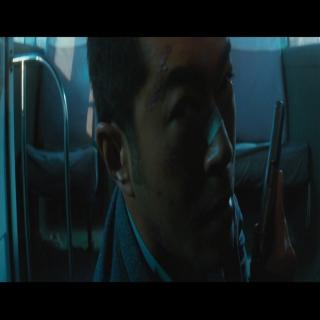gun: (252, 99, 300, 282)
